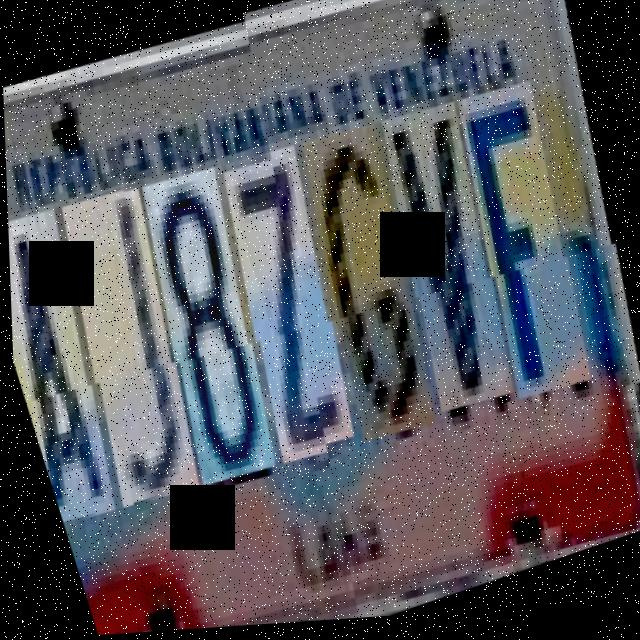8: (120, 157, 306, 489)
A: (6, 200, 146, 528)
F: (437, 79, 623, 412)
G: (281, 121, 468, 454)
J: (41, 178, 230, 511)
V: (362, 99, 545, 424)
Z: (203, 143, 386, 468)
